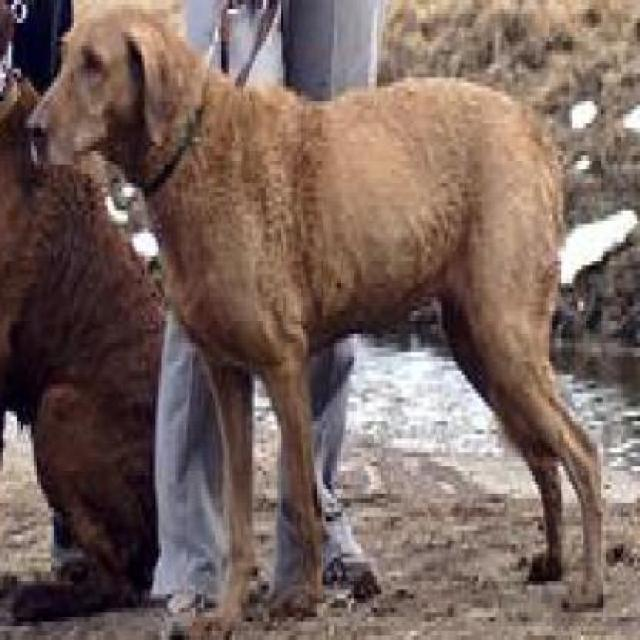Dog: (25, 4, 606, 636)
